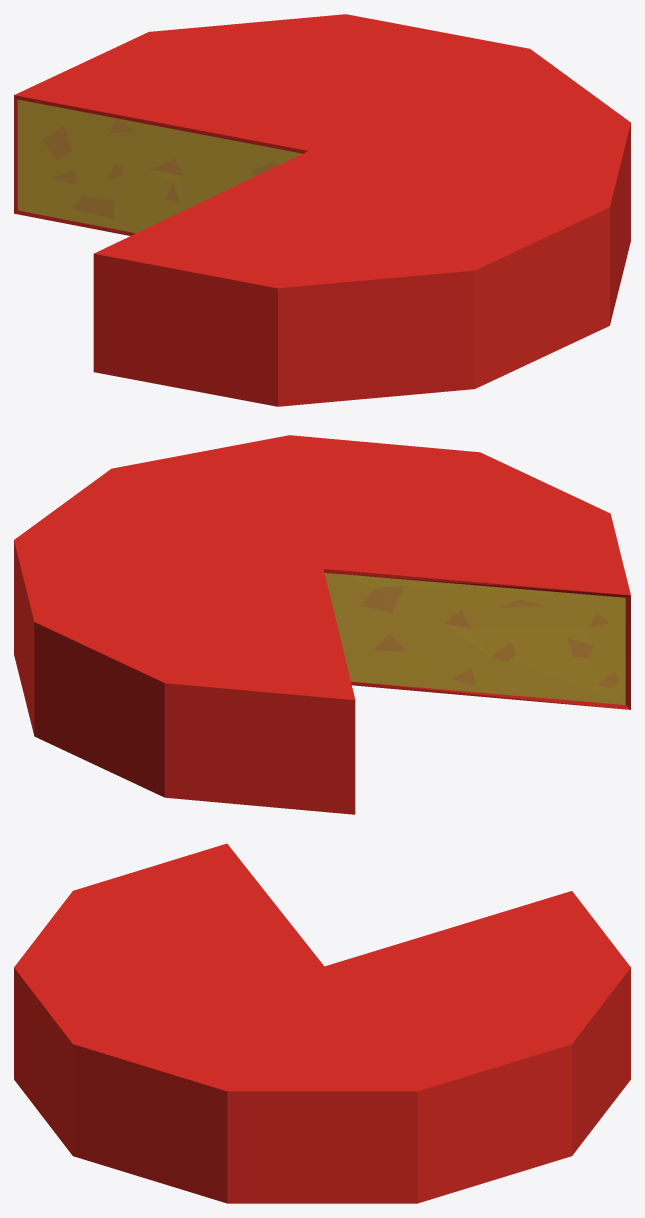
The model's file is CheeseWheel.fbx.
The picture shows the model from 3 angles, top to bottom: view 1: azimuth 30°, elevation 25°; view 2: azimuth 150°, elevation 25°; view 3: azimuth 270°, elevation 25°; orthographic projection. The views are drawn at different scales.
Visible parts, largest first — view 1: Cylinder, Cylinder.001, Cylinder.002; view 2: Cylinder, Cylinder.001, Cylinder.002; view 3: Cylinder.
Part boxes in pixels (bbox=[...]): Cylinder: bbox=[14, 14, 630, 406]; Cylinder.001: bbox=[17, 99, 301, 233]; Cylinder.002: bbox=[42, 119, 280, 218]; Cylinder: bbox=[14, 435, 630, 814]; Cylinder.001: bbox=[324, 573, 625, 704]; Cylinder.002: bbox=[361, 586, 618, 688]; Cylinder: bbox=[14, 843, 630, 1203].
Bounding box in the file's own units: 49.2 × 10.37 × 51.73.
